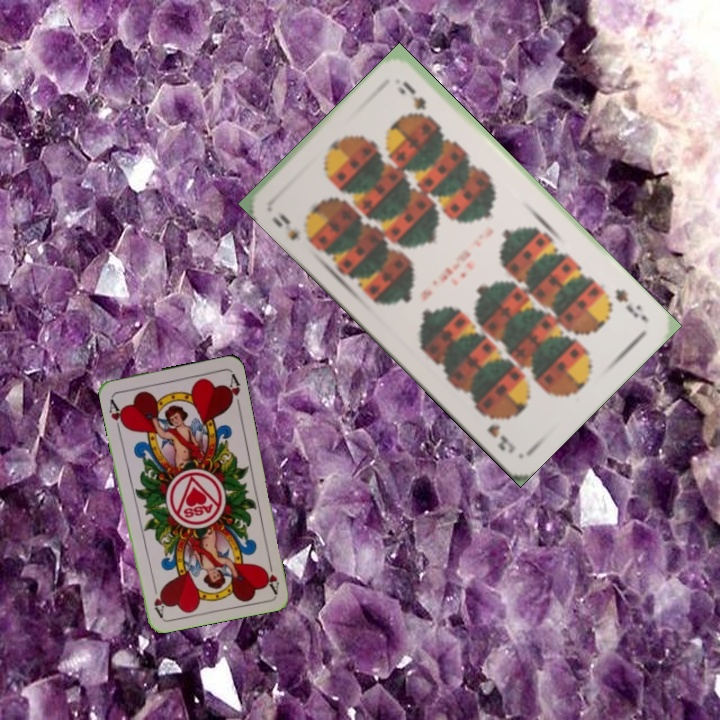HA: (259, 554, 282, 595), (105, 393, 128, 433)
S9: (267, 209, 304, 243), (611, 284, 645, 321)
